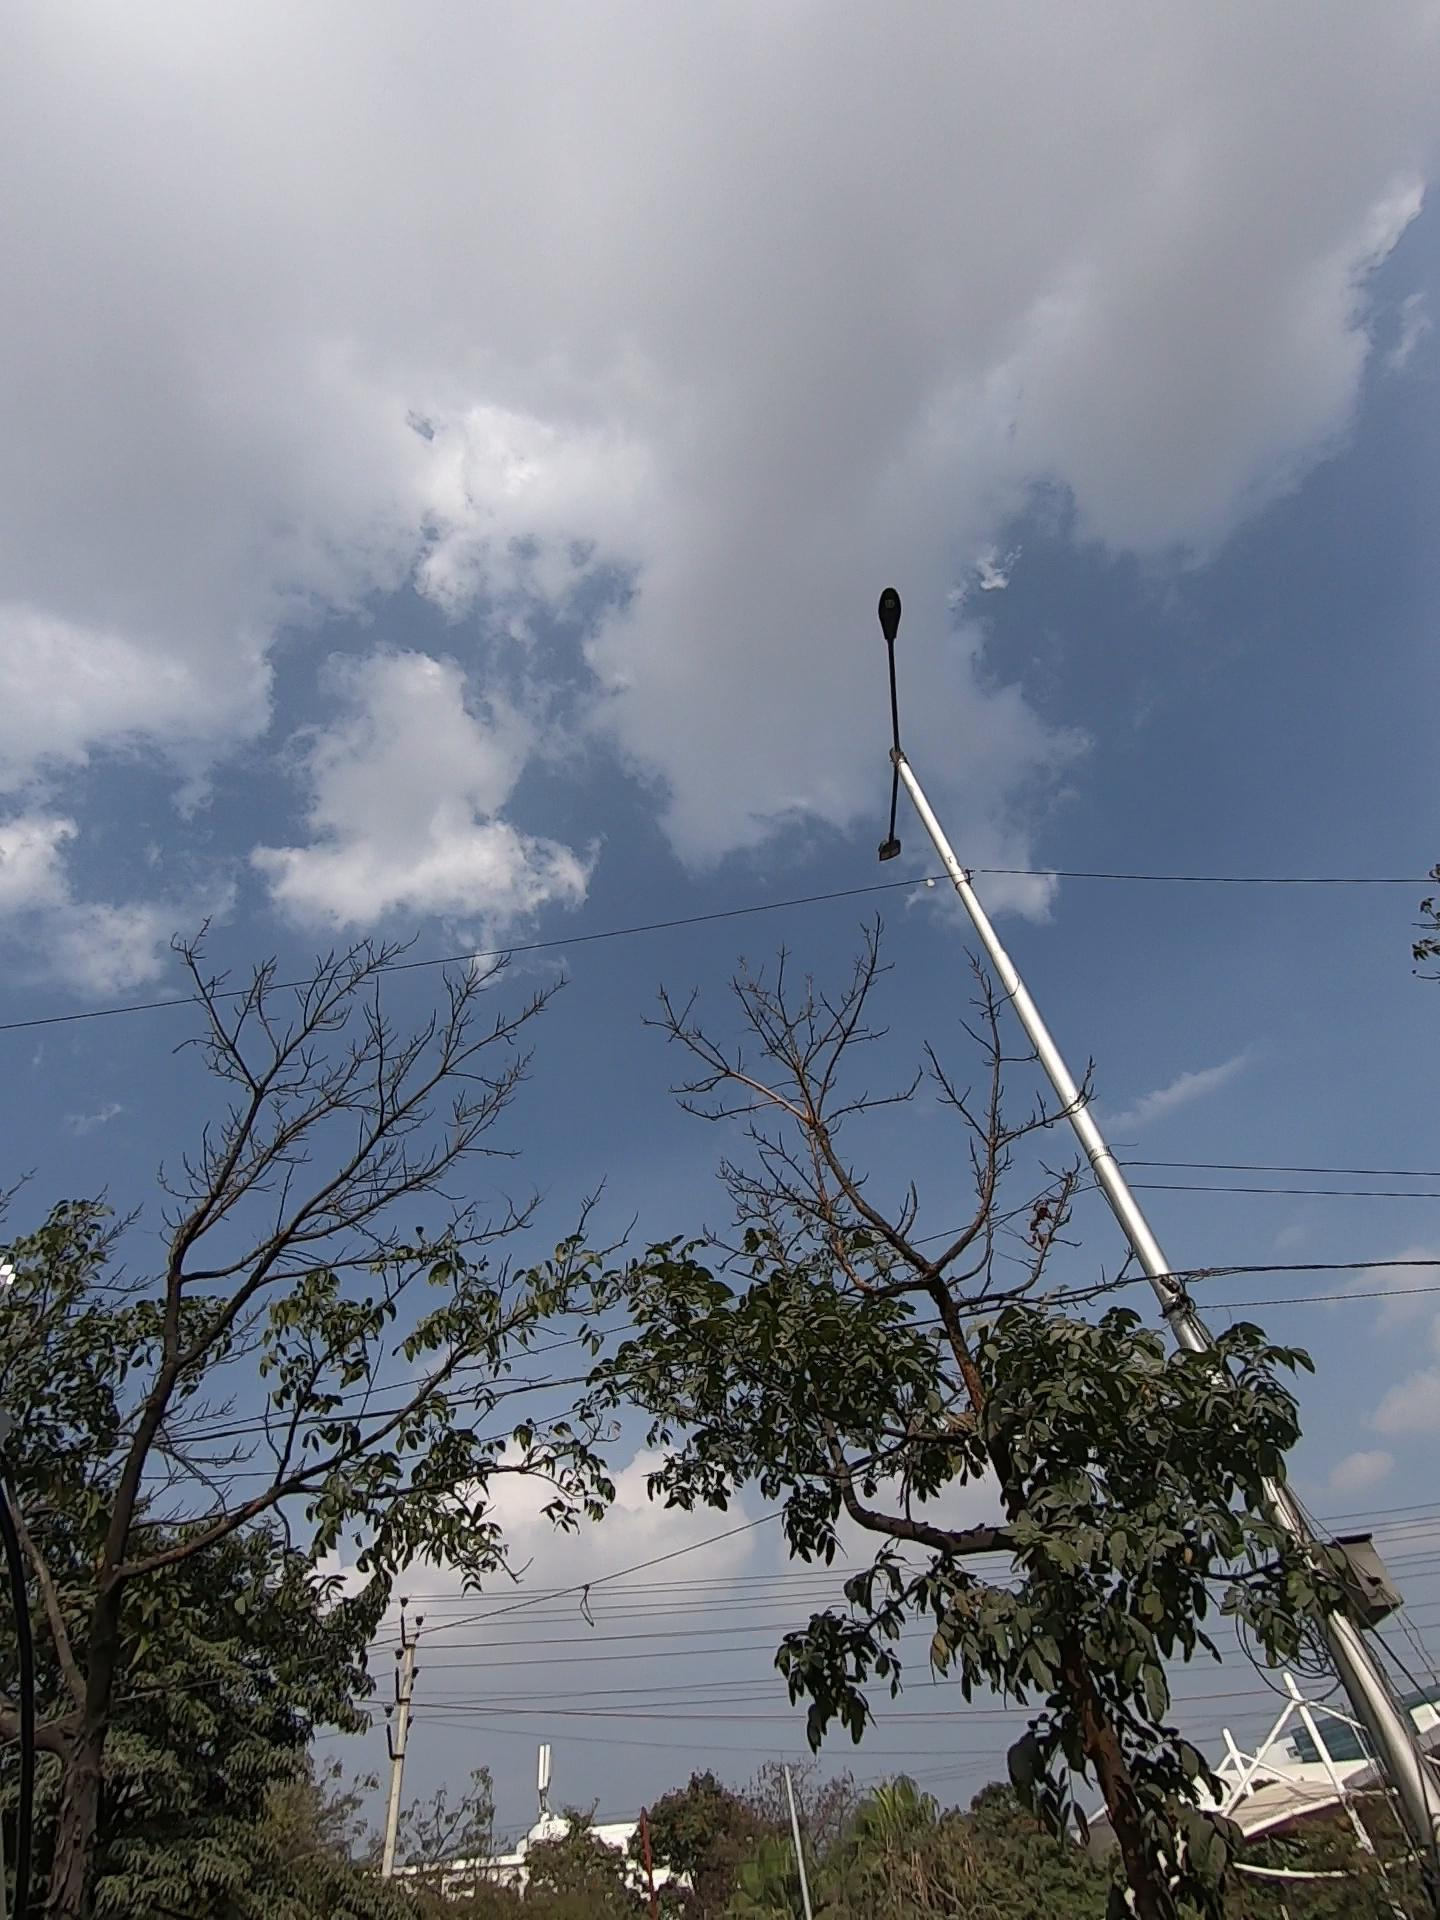off: (755, 531, 1027, 939)
